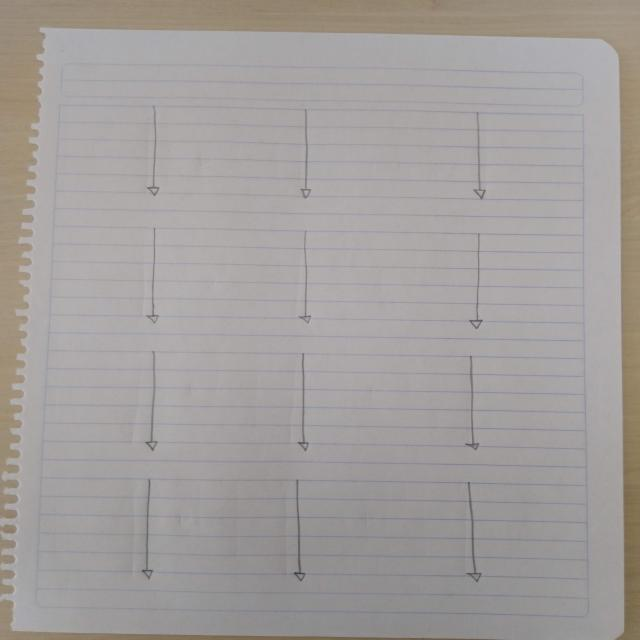arrow_line_down: (130, 102, 173, 201), (285, 352, 322, 458), (460, 351, 493, 458), (286, 472, 314, 592), (462, 108, 497, 201), (138, 351, 170, 450), (459, 480, 488, 586), (137, 229, 169, 325), (294, 231, 326, 326), (136, 477, 162, 584), (470, 235, 496, 336), (294, 106, 320, 199)
